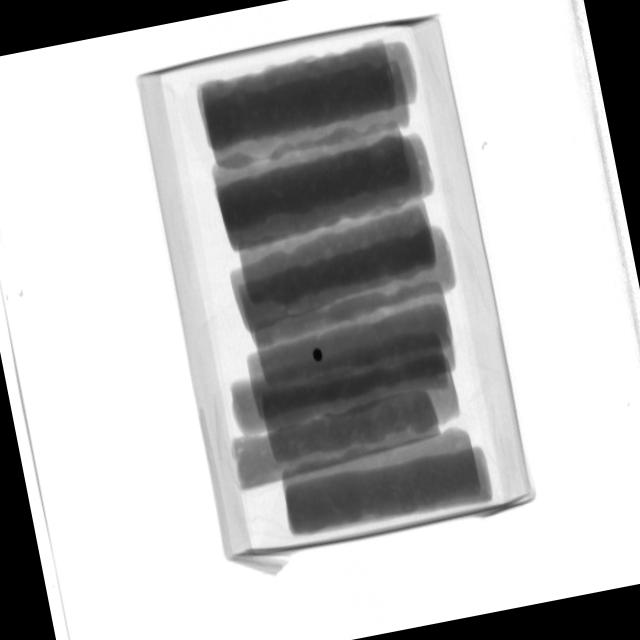ym: (315, 348, 326, 363)
